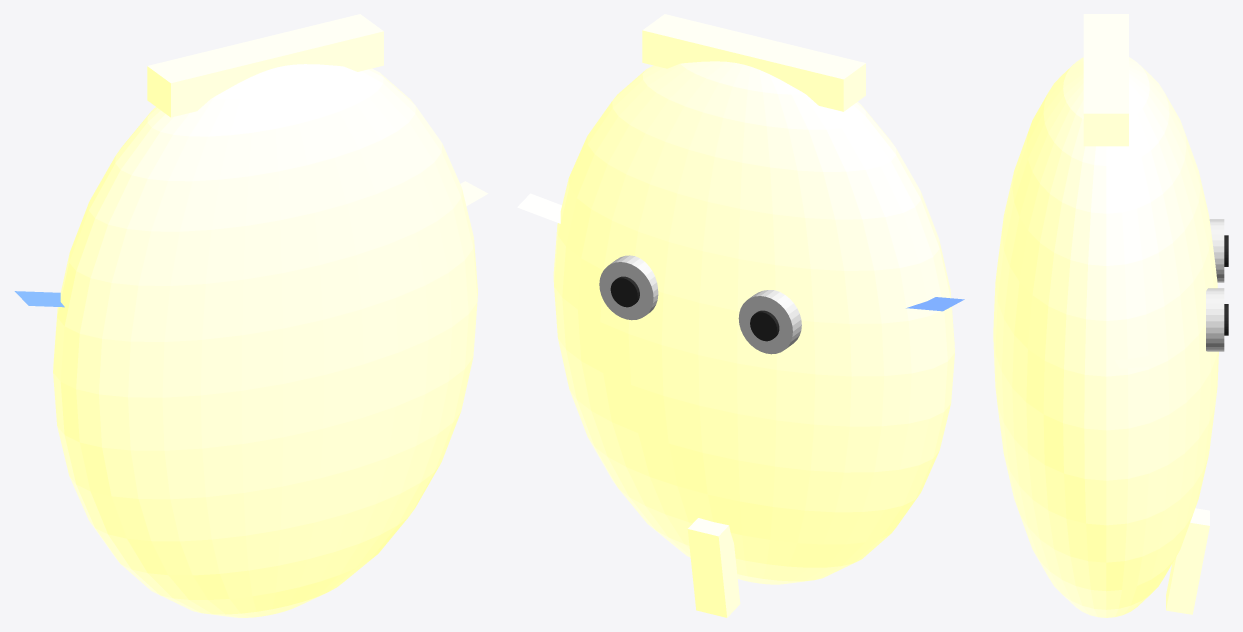
The model's file is pharaoh_mask.glb.
The picture shows the model from 3 angles, left to right: view 1: azimuth 30°, elevation 25°; view 2: azimuth 150°, elevation 25°; view 3: azimuth 270°, elevation 25°; orthographic projection. The views are drawn at different scales.
Parts seen in each view (by area): view 1: Face, Crown; view 2: Face, Crown, Beard, Sclera_L, Sclera_R, NemesRight, Pupil_R, Pupil_L; view 3: Face, Crown, Beard, Sclera_R, Sclera_L, NemesRight.
Boxes of the visible parts, x1,y1,x2,y2 form: Face: (53, 64, 477, 617); Crown: (147, 14, 383, 117); Face: (553, 61, 954, 584); Crown: (642, 14, 865, 111); Beard: (687, 518, 740, 617); Sclera_L: (738, 290, 801, 354); Sclera_R: (599, 255, 658, 320); NemesRight: (517, 193, 561, 223); Pupil_R: (610, 276, 639, 307); Pupil_L: (750, 310, 779, 341); Face: (993, 57, 1218, 617); Crown: (1083, 14, 1128, 146); Beard: (1166, 508, 1209, 614); Sclera_R: (1206, 288, 1224, 351); Sclera_L: (1209, 219, 1224, 282); NemesRight: (1114, 356, 1155, 368).
Bounding box in the file's own units: 1.12 × 1.32 × 0.52.
